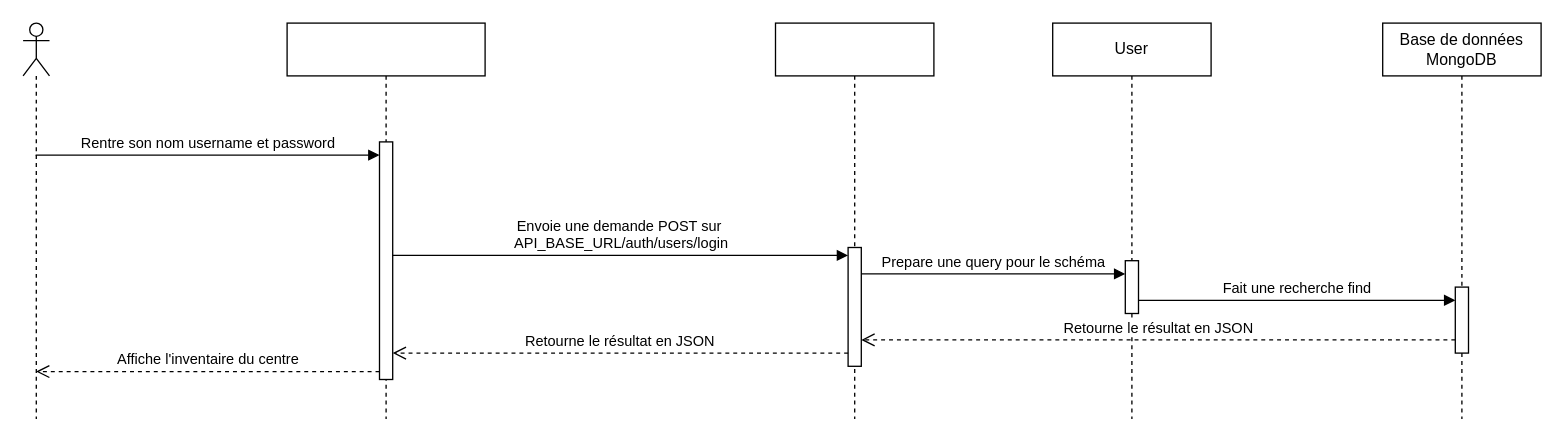
This 1564x442 diagram has some shape labels left out. The box of each missing label's shape, as (x1, y1, x2, y2) in pixels:
Frontend Django Python: (286, 22, 485, 419)
KrakenD - Service Auth: (774, 22, 934, 419)
